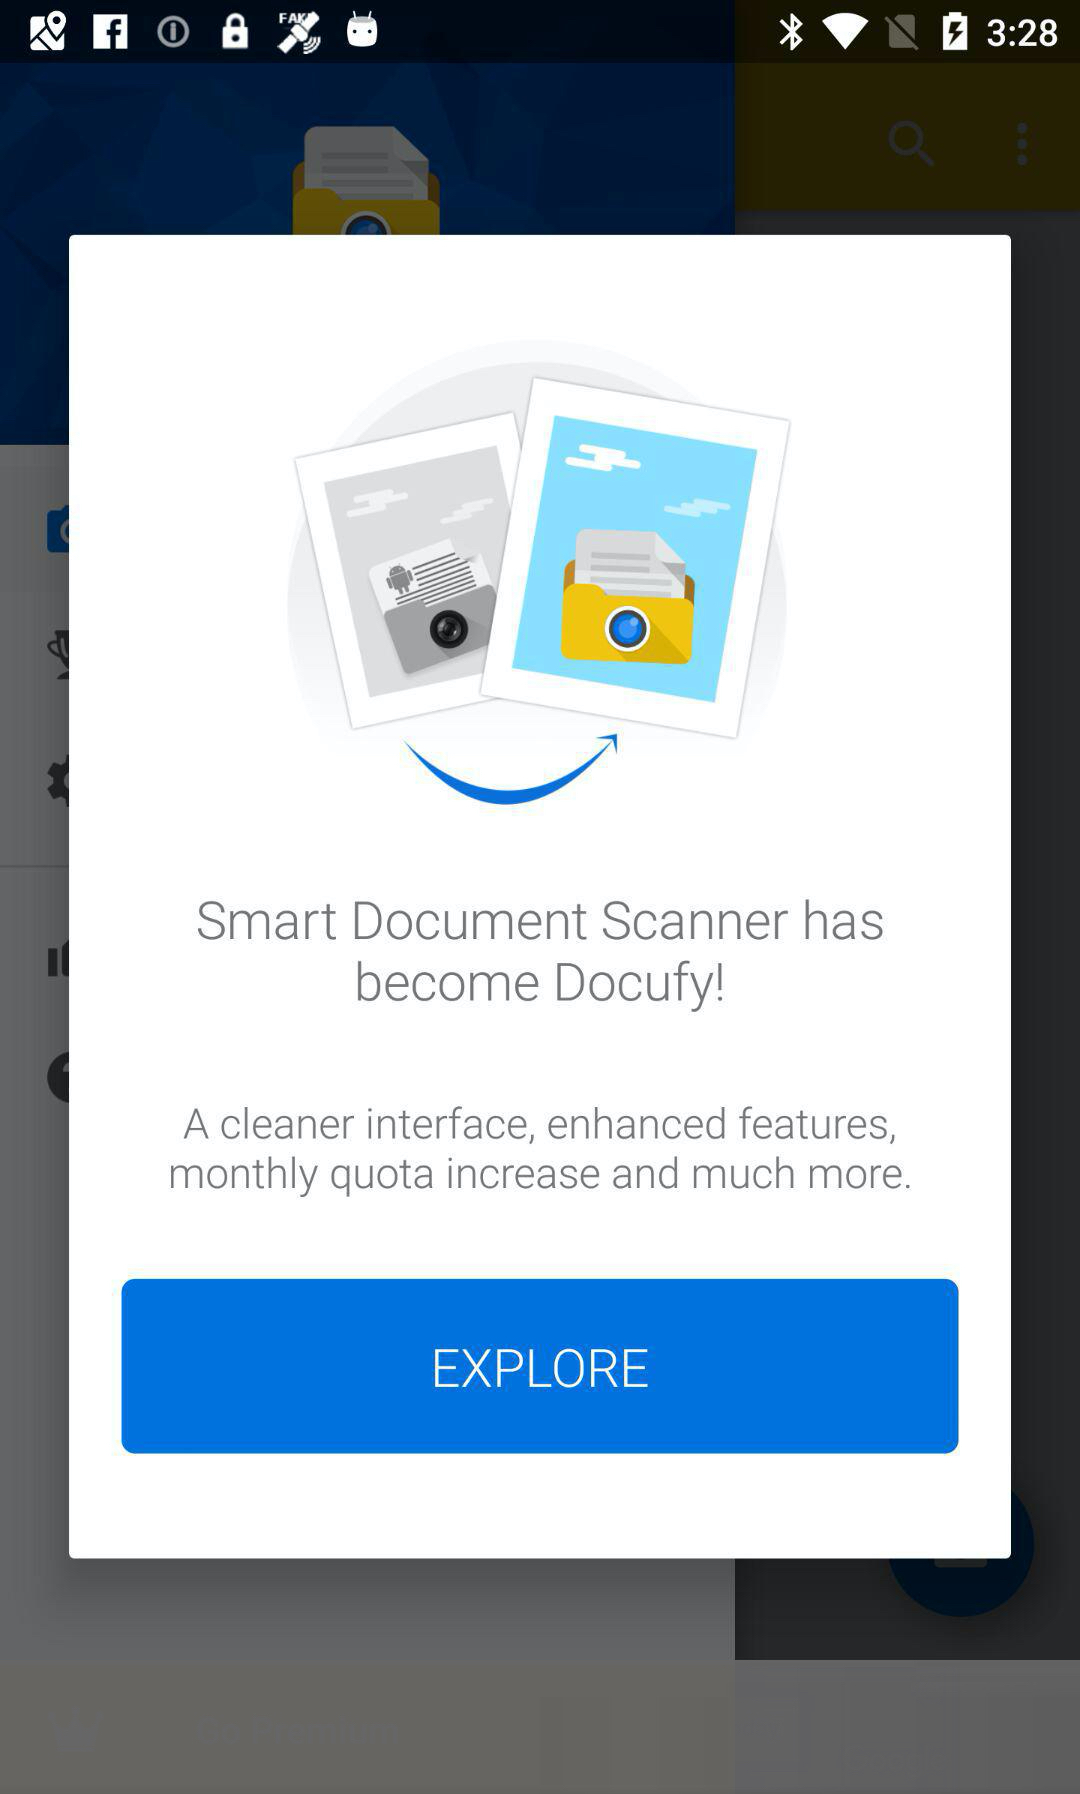Image: (290, 340, 790, 805)
Modal: (69, 235, 1012, 1559)
Text: (193, 900, 884, 1014), (170, 1105, 910, 1199)
TextButton: (122, 1278, 960, 1454)
UpperTaskBar: (1, 1, 1080, 64)
